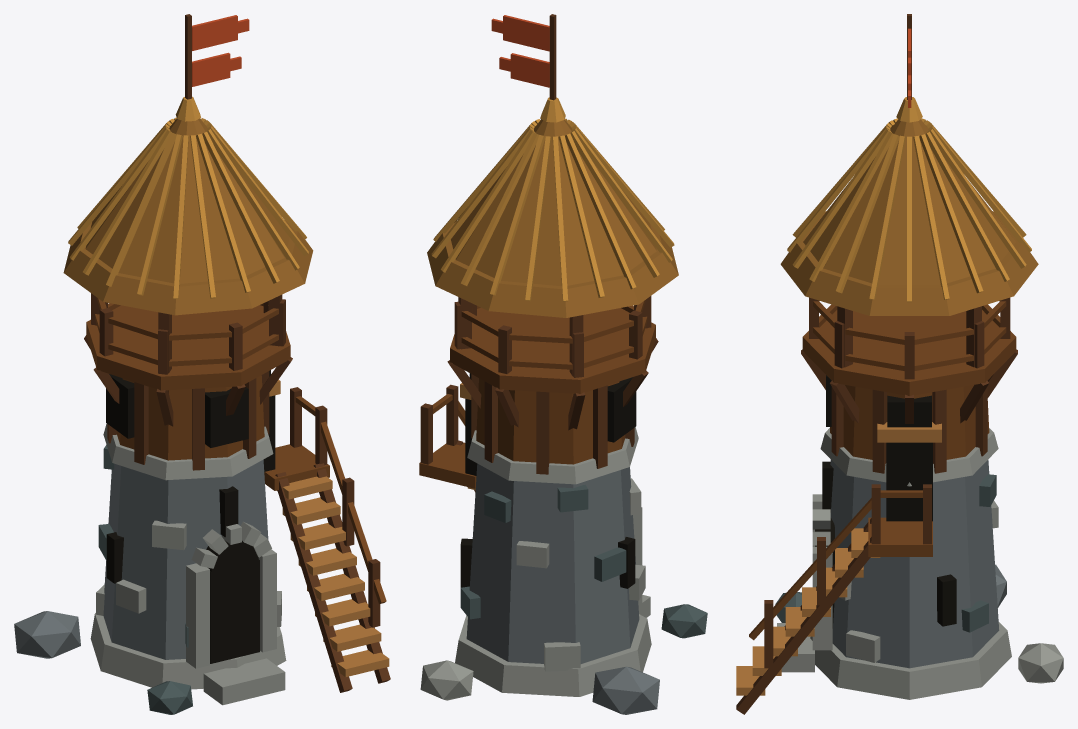
The model's file is watchtower.glb.
3 renders of one model, left to right at view 1: azimuth 30°, elevation 25°; view 2: azimuth 150°, elevation 25°; view 3: azimuth 270°, elevation 25°, orthographic.
Visible parts, largest first — view 1: Thatch cone, Gallery rail.007, Tower shaft, Arch stone, Gallery post.002, Straw rib.003, Arrow slit.001, Stair tread.004, Pennant tail, Footing stone.002; view 2: Tower shaft, Thatch cone, Gallery rail.007, Arch stone, Straw rib.003, Gallery post.002, Footing stone.002, Arrow slit.001, Pennant tail; view 3: Thatch cone, Tower shaft, Gallery rail.007, Arch stone, Gallery post.002, Straw rib.003, Arrow slit.001, Stair tread.004, Footing stone.002.
Part boxes in pixels (bbox=[...]): Thatch cone: bbox=[63, 118, 313, 315]; Gallery rail.007: bbox=[86, 297, 386, 604]; Tower shaft: bbox=[14, 459, 268, 659]; Arch stone: bbox=[90, 423, 286, 705]; Gallery post.002: bbox=[84, 14, 390, 692]; Straw rib.003: bbox=[68, 96, 308, 298]; Arrow slit.001: bbox=[106, 370, 275, 663]; Stair tread.004: bbox=[269, 379, 389, 677]; Pennant tail: bbox=[192, 15, 249, 86]; Footing stone.002: bbox=[98, 445, 192, 714]; Tower shaft: bbox=[466, 463, 659, 714]; Thatch cone: bbox=[427, 119, 678, 317]; Gallery rail.007: bbox=[419, 300, 655, 488]; Arch stone: bbox=[420, 427, 651, 700]; Straw rib.003: bbox=[431, 97, 674, 301]; Gallery post.002: bbox=[420, 14, 658, 492]; Footing stone.002: bbox=[460, 484, 707, 638]; Arrow slit.001: bbox=[460, 373, 636, 588]; Pennant tail: bbox=[491, 15, 549, 87]; Thatch cone: bbox=[780, 119, 1038, 315]; Tower shaft: bbox=[830, 459, 1006, 668]; Gallery rail.007: bbox=[749, 300, 1016, 640]; Arch stone: bbox=[777, 428, 1063, 699]; Gallery post.002: bbox=[736, 14, 1017, 714]; Straw rib.003: bbox=[787, 97, 1031, 302]; Arrow slit.001: bbox=[815, 375, 956, 628]; Stair tread.004: bbox=[736, 422, 941, 695]; Footing stone.002: bbox=[775, 474, 996, 632].
Size of the model in its own units: 2.71 by 6.44 by 2.94.
